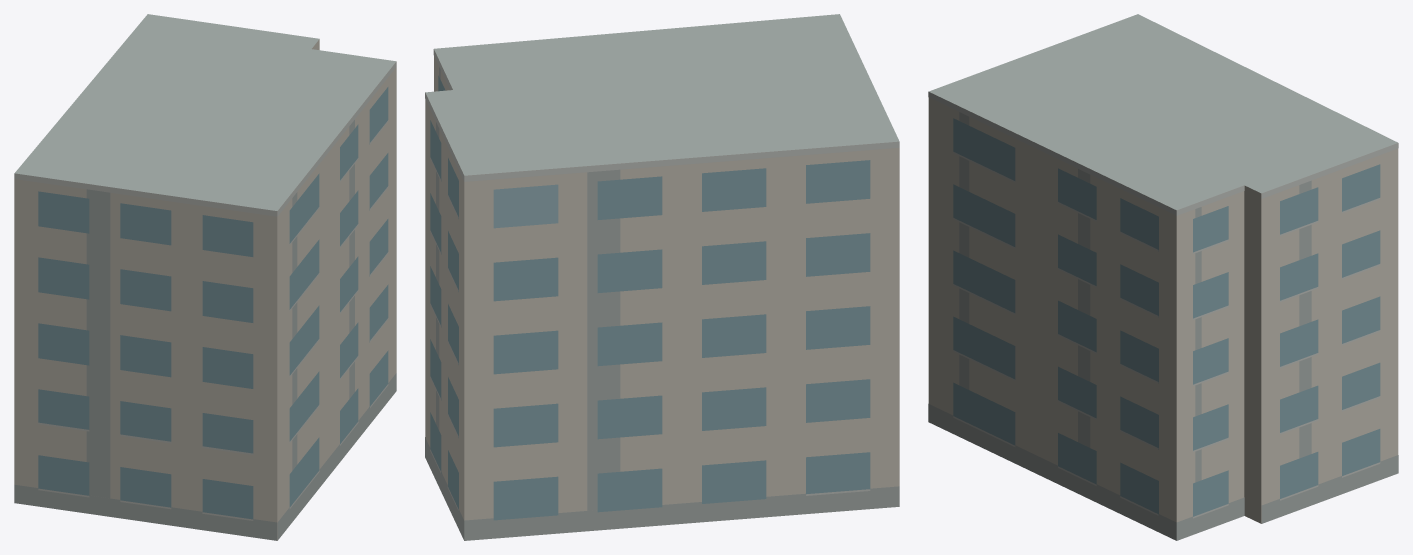
The model's file is survey-upis-32950581.glb.
The picture shows the model from 3 angles, left to right: view 1: azimuth 30°, elevation 25°; view 2: azimuth 150°, elevation 25°; view 3: azimuth 270°, elevation 25°; orthographic projection. The views are drawn at different scales.
Parts seen in each view (by area): view 1: survey-upis-32950581.tmp; view 2: survey-upis-32950581.tmp; view 3: survey-upis-32950581.tmp.
Boxes of the visible parts, x1,y1,x2,y2 form: survey-upis-32950581.tmp: (14, 14, 396, 540); survey-upis-32950581.tmp: (425, 14, 899, 540); survey-upis-32950581.tmp: (928, 14, 1398, 540).
Bounding box in the file's own units: 18.35 × 14.4 × 18.57.
